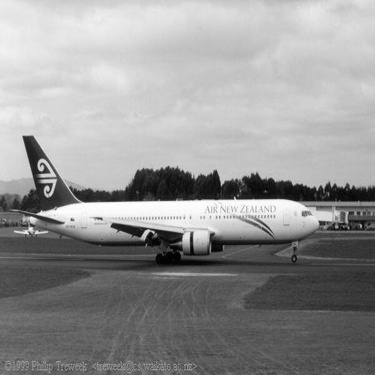airplane: (11, 125, 324, 273)
